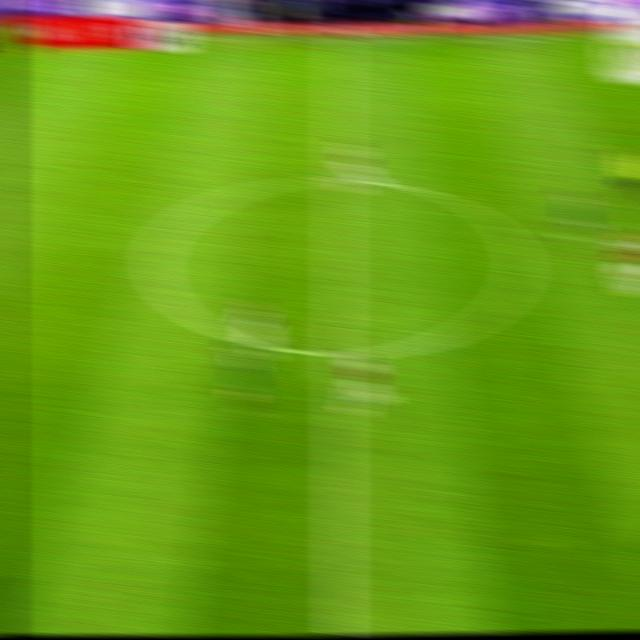halfcircle_bottom: (314, 322, 361, 383)
halfcircle_top: (314, 163, 360, 198)
midline_top_intersection: (317, 16, 361, 67)
